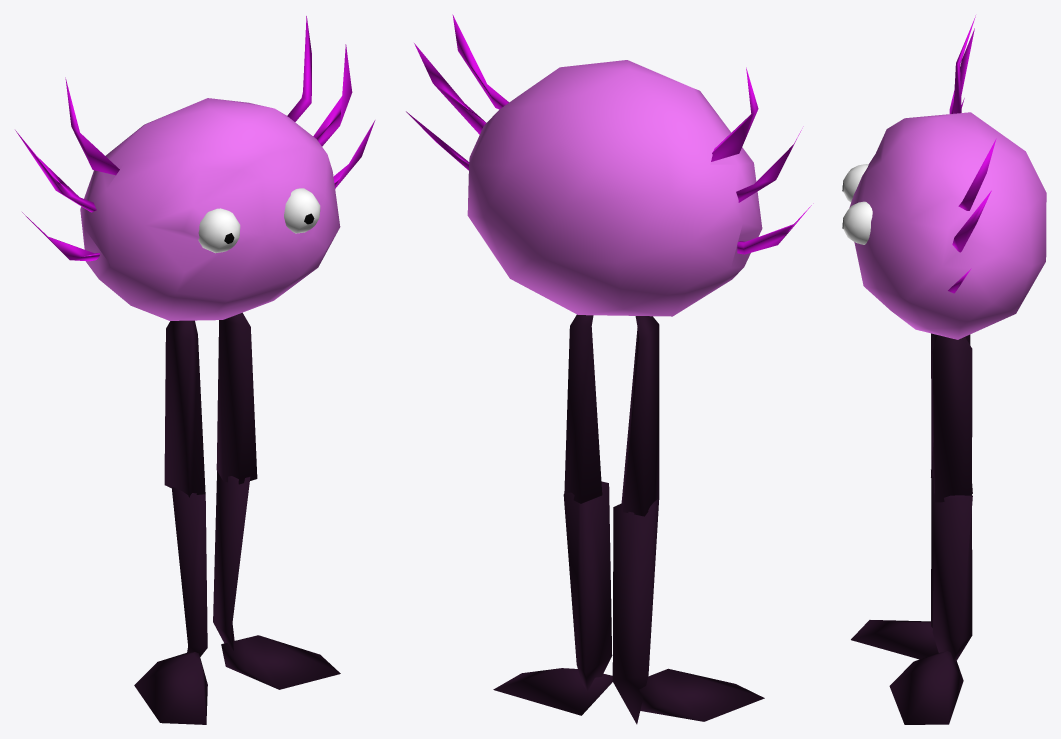
The model's file is kinito_axolotl.gltf.
The picture shows the model from 3 angles, left to right: view 1: azimuth 30°, elevation 25°; view 2: azimuth 150°, elevation 25°; view 3: azimuth 270°, elevation 25°; orthographic projection. The views are drawn at different scales.
Parts seen in each view (by area): view 1: Headobj-d76f7f63cb092405e8dbf8b82fb74b31, Leg1obj-6d221555dec44aa4f19f6d8f64f2fc05, Leg1obj-6d221555dec44aa4f19f6d8f64f2fc07, Leg1obj-6d221555dec44aa4f19f6d8f64f2fc06, Leg1obj-6d221555dec44aa4f19f6d8f64f2fc08, Footobj-5e137e43cd654a295a89b029aa4405d9, Footobj-5e137e43cd654a295a89b029aa4405d10, Eyeobj-ecd3ae3ff5fe2eb0d1dc85392d3955e9, Eyeobj-ecd3ae3ff5fe2eb0d1dc85392d3955e10; view 2: Headobj-d76f7f63cb092405e8dbf8b82fb74b31, Leg1obj-6d221555dec44aa4f19f6d8f64f2fc06, Leg1obj-6d221555dec44aa4f19f6d8f64f2fc08, Leg1obj-6d221555dec44aa4f19f6d8f64f2fc05, Leg1obj-6d221555dec44aa4f19f6d8f64f2fc07, Footobj-5e137e43cd654a295a89b029aa4405d9, Footobj-5e137e43cd654a295a89b029aa4405d10; view 3: Headobj-d76f7f63cb092405e8dbf8b82fb74b31, Leg1obj-6d221555dec44aa4f19f6d8f64f2fc07, Leg1obj-6d221555dec44aa4f19f6d8f64f2fc08, Footobj-5e137e43cd654a295a89b029aa4405d10, Footobj-5e137e43cd654a295a89b029aa4405d9, Eyeobj-ecd3ae3ff5fe2eb0d1dc85392d3955e10, Eyeobj-ecd3ae3ff5fe2eb0d1dc85392d3955e9, Leg1obj-6d221555dec44aa4f19f6d8f64f2fc05, Leg1obj-6d221555dec44aa4f19f6d8f64f2fc06.
Part boxes in pixels (x1=…): Headobj-d76f7f63cb092405e8dbf8b82fb74b31: x1=15, y1=16, x2=375, y2=320; Leg1obj-6d221555dec44aa4f19f6d8f64f2fc05: x1=164, y1=320, x2=205, y2=497; Leg1obj-6d221555dec44aa4f19f6d8f64f2fc07: x1=216, y1=312, x2=257, y2=484; Leg1obj-6d221555dec44aa4f19f6d8f64f2fc06: x1=172, y1=487, x2=207, y2=656; Leg1obj-6d221555dec44aa4f19f6d8f64f2fc08: x1=213, y1=471, x2=250, y2=650; Footobj-5e137e43cd654a295a89b029aa4405d9: x1=134, y1=652, x2=207, y2=724; Footobj-5e137e43cd654a295a89b029aa4405d10: x1=221, y1=635, x2=340, y2=689; Eyeobj-ecd3ae3ff5fe2eb0d1dc85392d3955e9: x1=198, y1=208, x2=240, y2=253; Eyeobj-ecd3ae3ff5fe2eb0d1dc85392d3955e10: x1=284, y1=188, x2=320, y2=233; Headobj-d76f7f63cb092405e8dbf8b82fb74b31: x1=406, y1=14, x2=813, y2=316; Leg1obj-6d221555dec44aa4f19f6d8f64f2fc06: x1=612, y1=498, x2=659, y2=724; Leg1obj-6d221555dec44aa4f19f6d8f64f2fc08: x1=563, y1=481, x2=612, y2=691; Leg1obj-6d221555dec44aa4f19f6d8f64f2fc05: x1=621, y1=316, x2=659, y2=516; Leg1obj-6d221555dec44aa4f19f6d8f64f2fc07: x1=564, y1=314, x2=602, y2=503; Footobj-5e137e43cd654a295a89b029aa4405d9: x1=639, y1=668, x2=764, y2=721; Footobj-5e137e43cd654a295a89b029aa4405d10: x1=493, y1=668, x2=612, y2=715; Headobj-d76f7f63cb092405e8dbf8b82fb74b31: x1=849, y1=15, x2=1046, y2=339; Leg1obj-6d221555dec44aa4f19f6d8f64f2fc07: x1=932, y1=335, x2=972, y2=502; Leg1obj-6d221555dec44aa4f19f6d8f64f2fc08: x1=932, y1=493, x2=972, y2=661; Footobj-5e137e43cd654a295a89b029aa4405d10: x1=889, y1=651, x2=963, y2=724; Footobj-5e137e43cd654a295a89b029aa4405d9: x1=851, y1=620, x2=938, y2=659; Eyeobj-ecd3ae3ff5fe2eb0d1dc85392d3955e10: x1=842, y1=201, x2=872, y2=244; Eyeobj-ecd3ae3ff5fe2eb0d1dc85392d3955e9: x1=842, y1=164, x2=868, y2=202; Leg1obj-6d221555dec44aa4f19f6d8f64f2fc05: x1=931, y1=333, x2=970, y2=477; Leg1obj-6d221555dec44aa4f19f6d8f64f2fc06: x1=931, y1=470, x2=933, y2=627.
Size of the model in its own units: 4.44 by 7.35 by 2.27.
